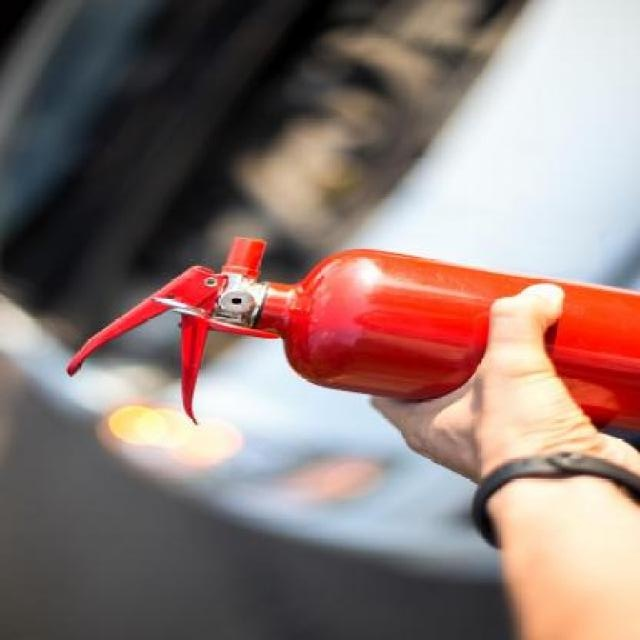fire extinguisher: (64, 237, 640, 437)
